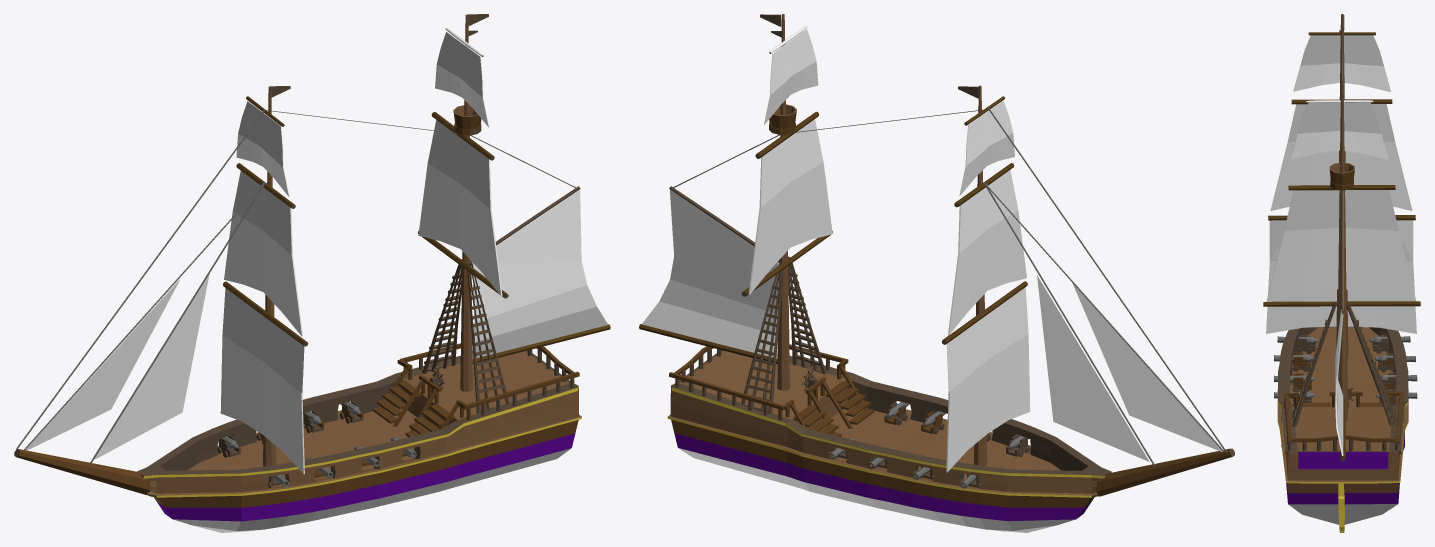
The model's file is Brig_Royal.fbx.
The picture shows the model from 3 angles, left to right: view 1: azimuth 30°, elevation 25°; view 2: azimuth 150°, elevation 25°; view 3: azimuth 270°, elevation 25°; orthographic projection. The views are drawn at different scales.
Visible parts, largest first — view 1: polySurface271; view 2: polySurface271; view 3: polySurface271.
Boxes of the visible parts, <box> form: polySurface271: <box>14,14,610,532</box>; polySurface271: <box>639,14,1234,532</box>; polySurface271: <box>1263,14,1420,532</box>.
Bounding box in the file's own units: 3490 × 2577 × 881.
Materials: 1 (1 with a texture image).
